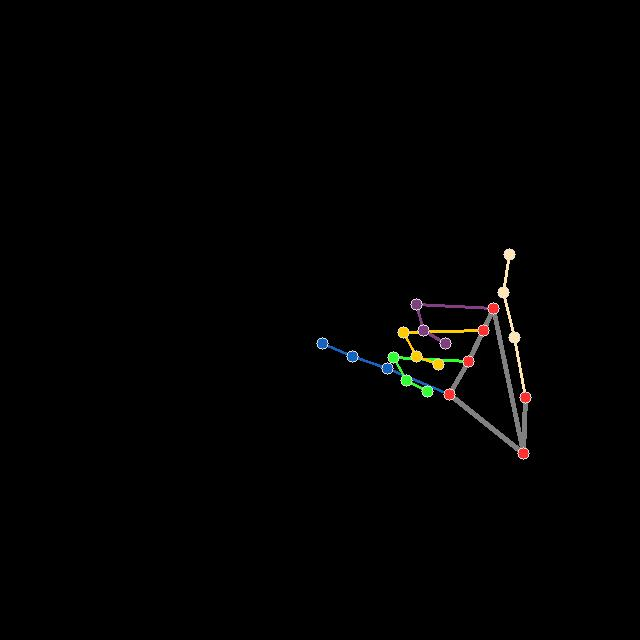skr: (315, 246, 533, 461)
